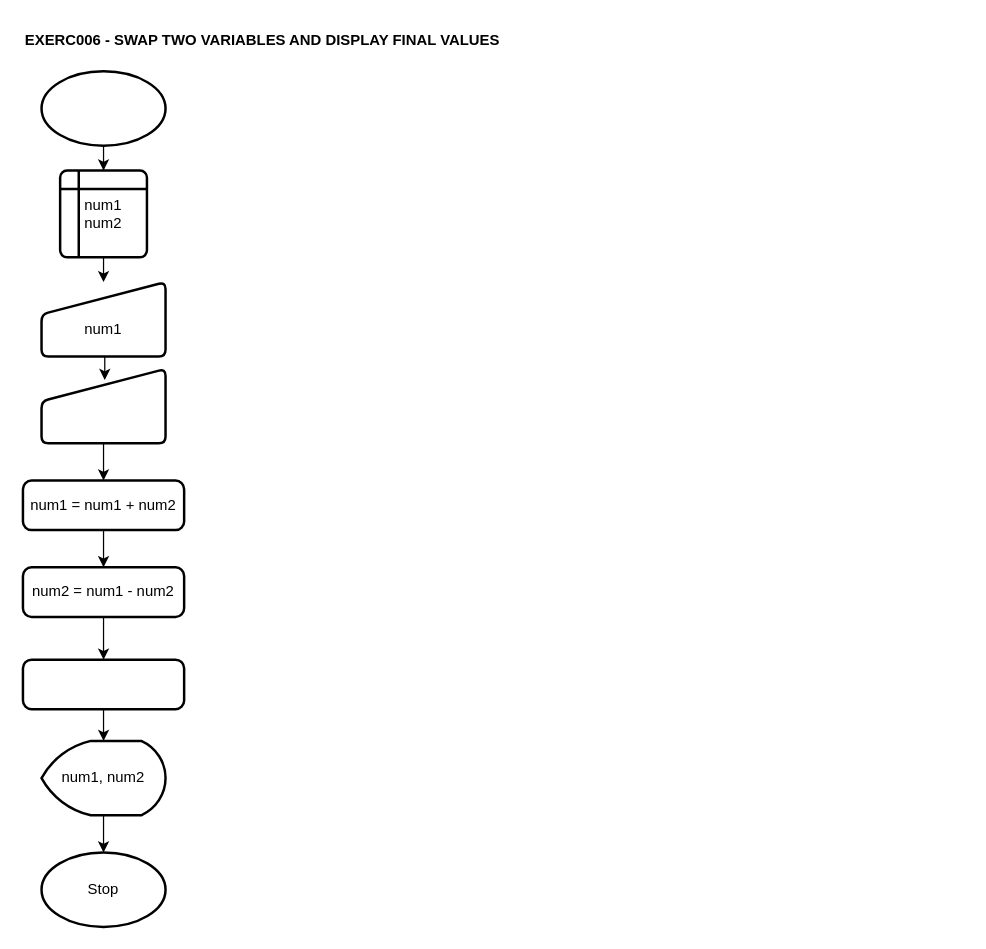
Image size: 986x949. Some labels were removed from this diagram. Here are the shapes that lost their labels. From the top down, the centre of each, then its label:
At point 103,107: "Start".
At point 103,405: "num2".
At point 103,684: "num1 = num1 - num2".
